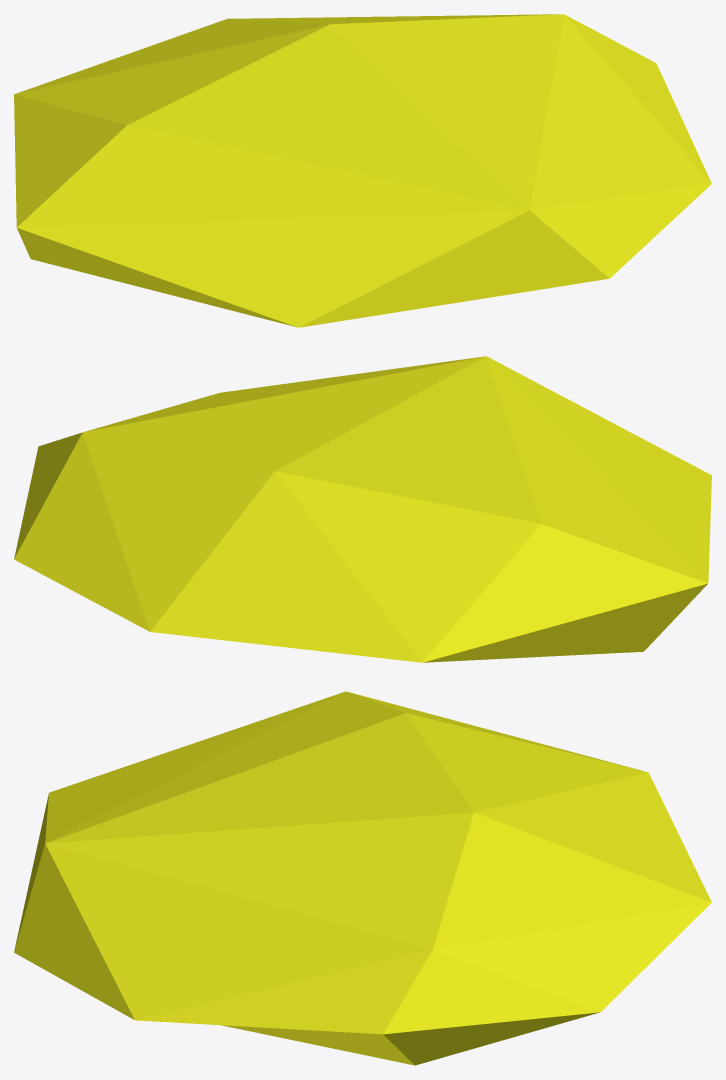
File: Sand_Ore.fbx
3 views of the same model, one above another, from view 1: azimuth 30°, elevation 25°; view 2: azimuth 150°, elevation 25°; view 3: azimuth 270°, elevation 25° (orthographic). The views are drawn at different scales.
Parts seen in each view (by area): view 1: Icosphere; view 2: Icosphere; view 3: Icosphere.
Boxes of the visible parts, x1,y1,x2,y2 form: Icosphere: (14,14,711,327); Icosphere: (14,356,711,662); Icosphere: (14,691,711,1065).
Size of the model in its own units: 205 by 48.52 by 181.
